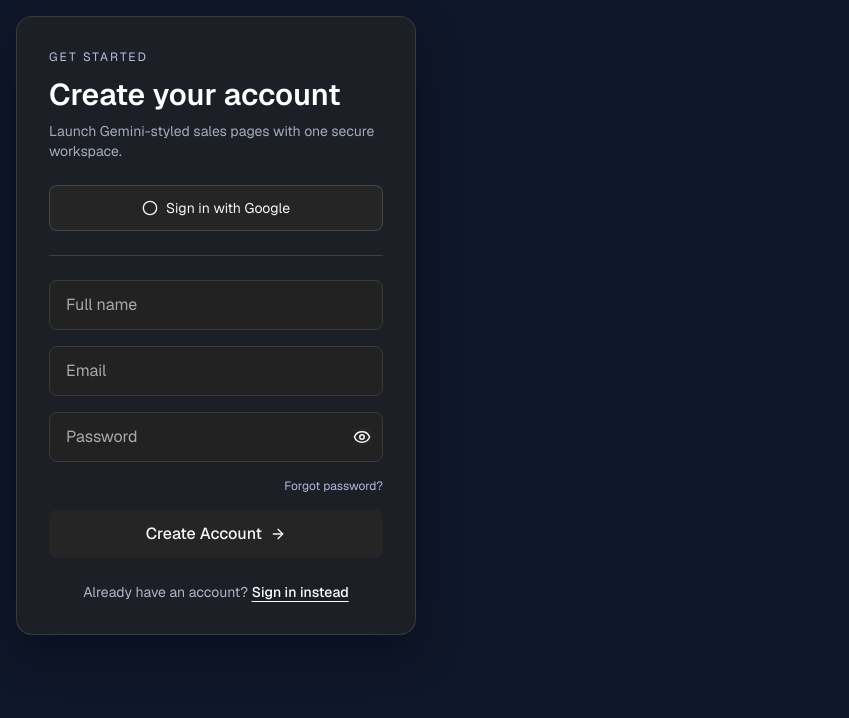
Register auto-login flow › creates account, signs in, then replaces route to dashboard
Type "Akhma User" into the field with placeholder "Full name" at (216, 304), box [49, 280, 383, 330]
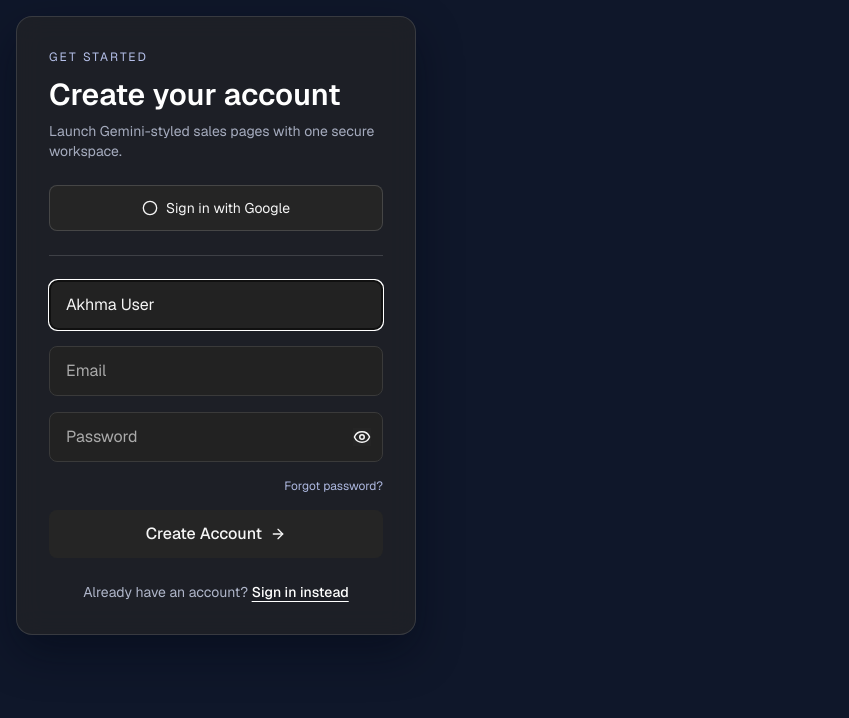
Type "akhma@example.com" into the field with placeholder "Email" at (216, 370), box [49, 346, 383, 396]
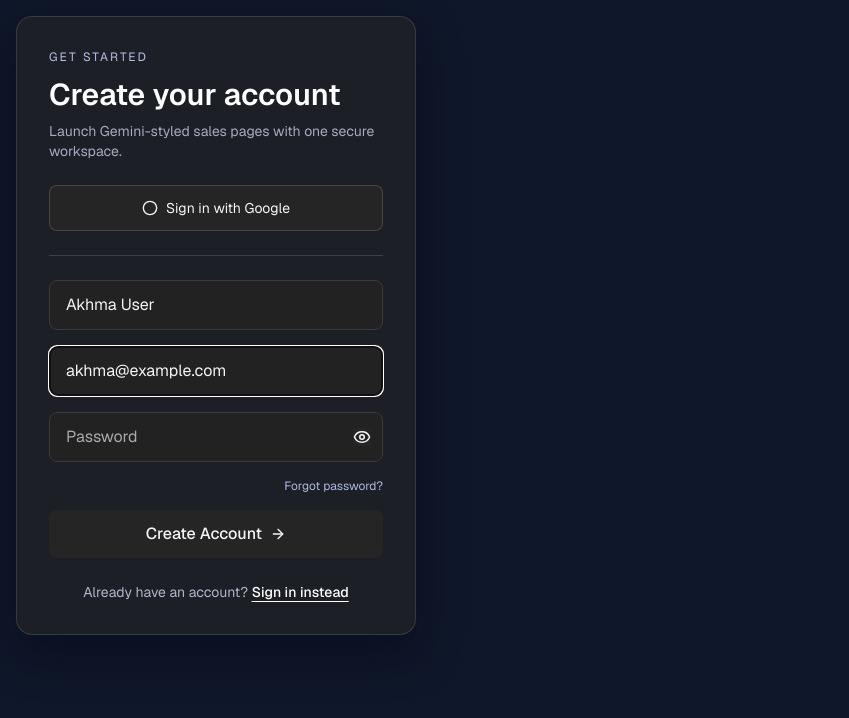
Type "password123" into the password field with placeholder "Password" at (216, 436), box [49, 412, 383, 462]
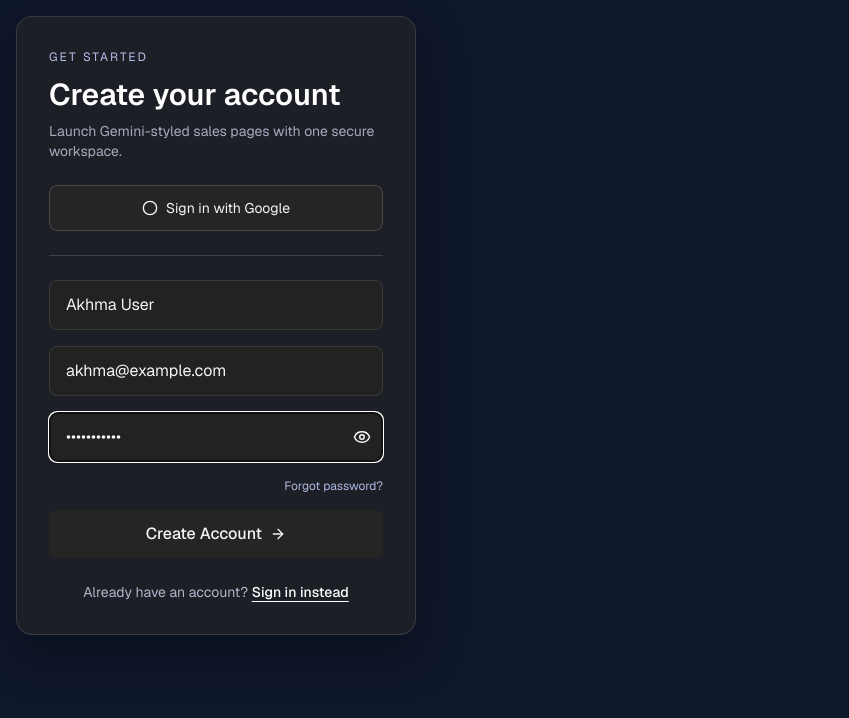
Click the button "Create Account" at (216, 534), box [49, 510, 383, 558]
Wait 900 ms
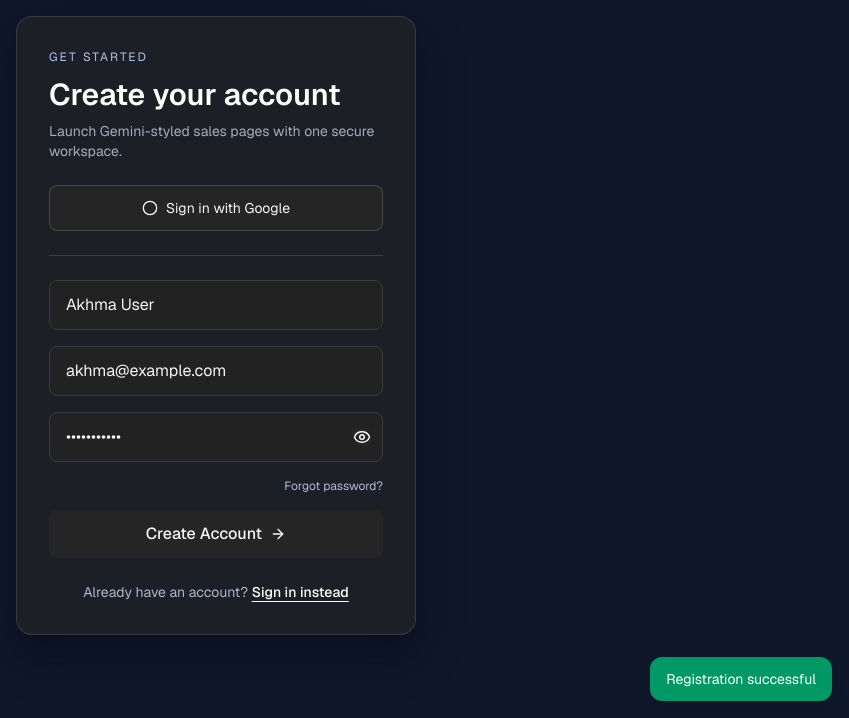
Result: the text "Registration successful" is shown at [650, 657, 832, 701]
